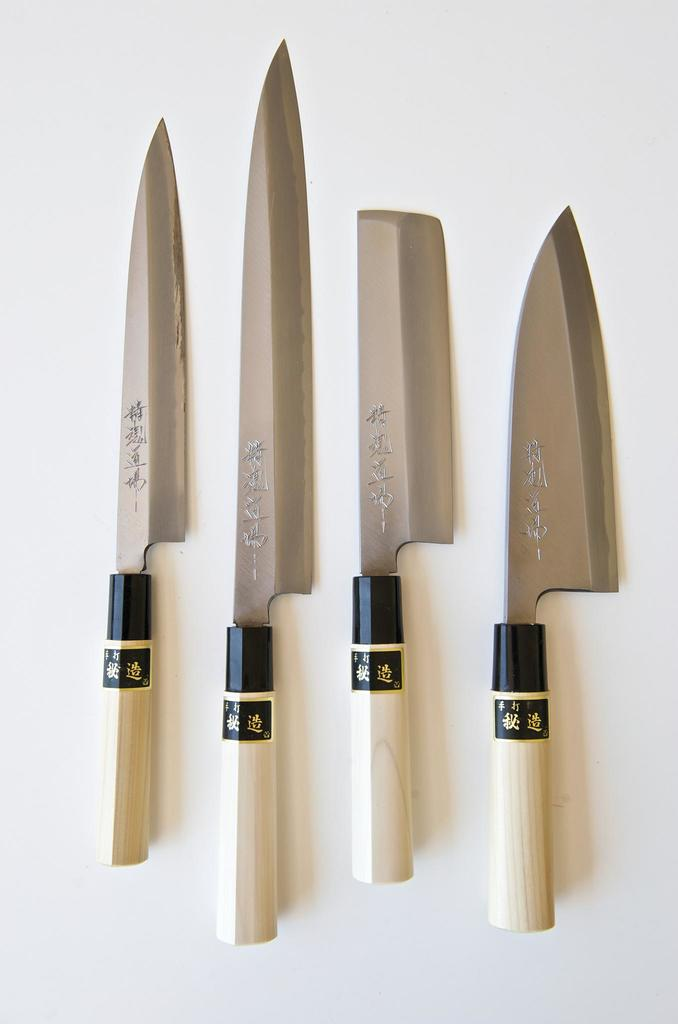kitchen knife: (204, 32, 316, 944), (488, 199, 621, 929), (89, 114, 189, 868), (354, 202, 453, 882)
